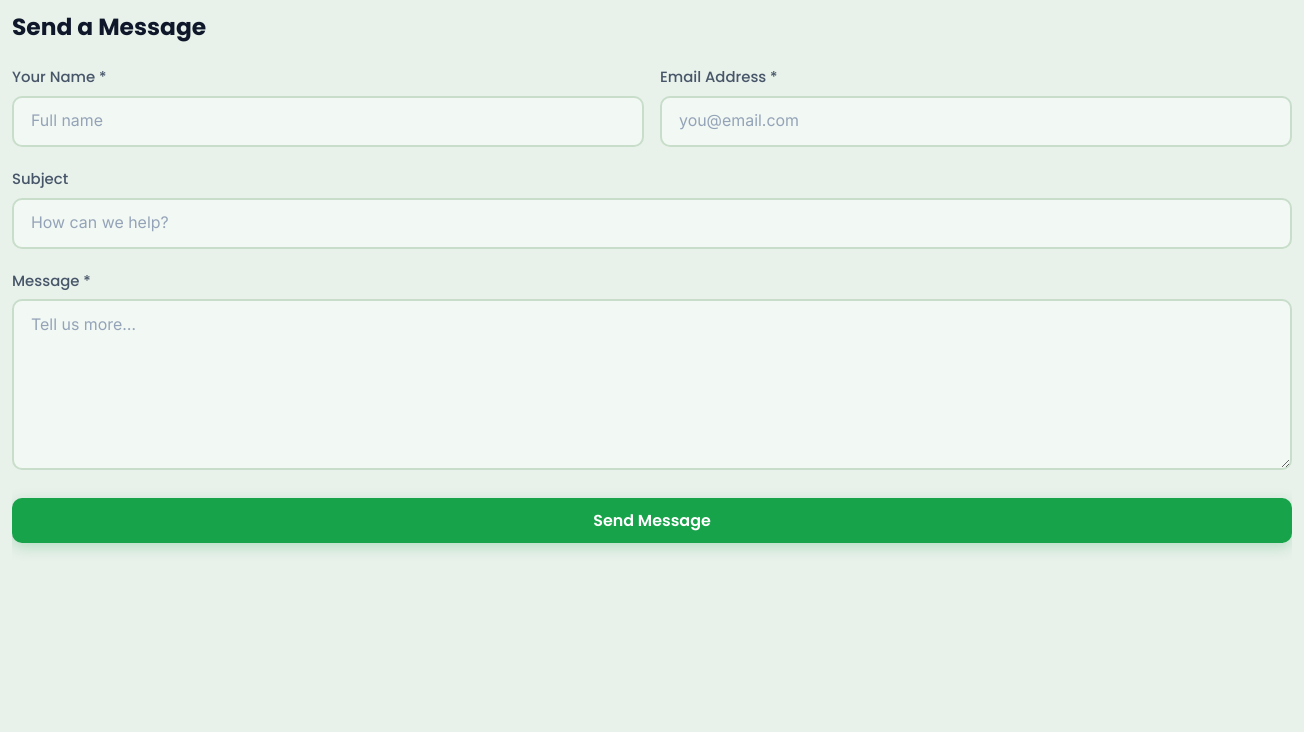
Test: ContactForm › does NOT claim success when the server cannot be reached
This screenshot has width=1304, height=732.
In the field labelled "Your Name *": (328, 121) [12,96,644,147], type "Nimali Perera"
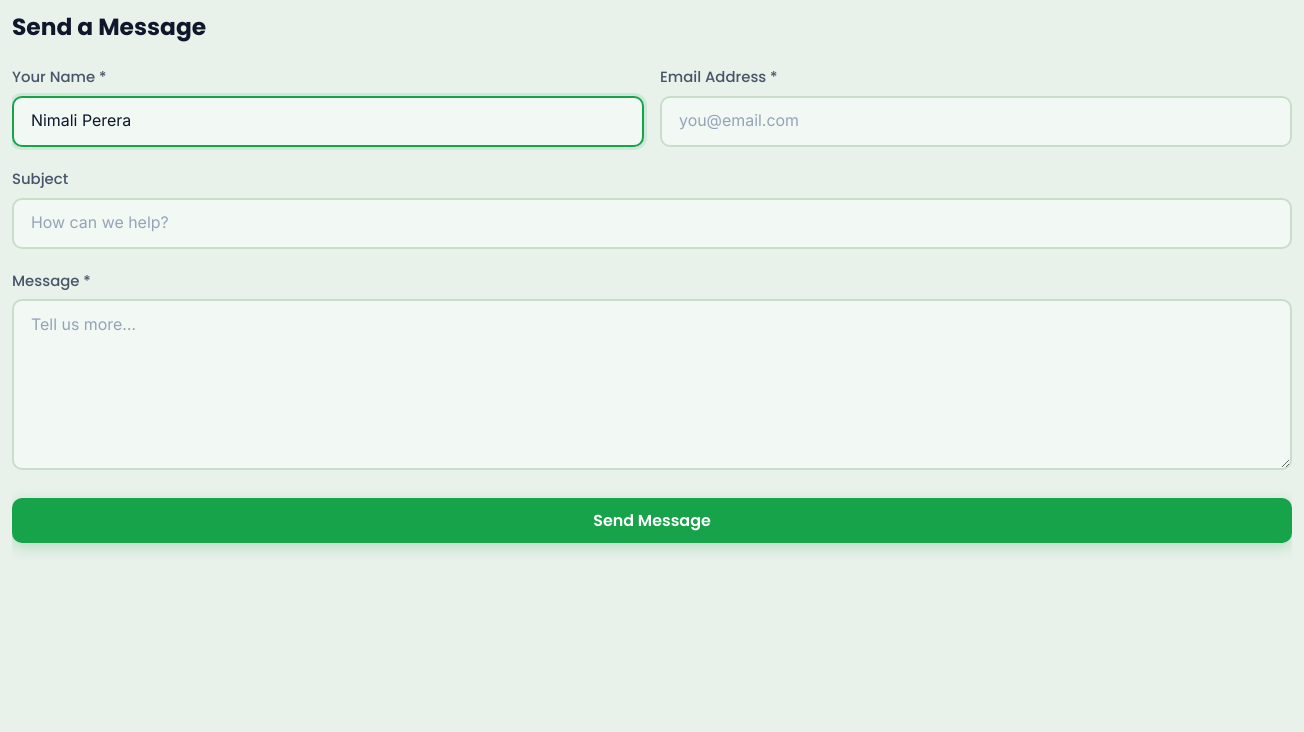
In the field labelled "Email Address *": (976, 121) [660,96,1292,147], type "nimali@example.com"
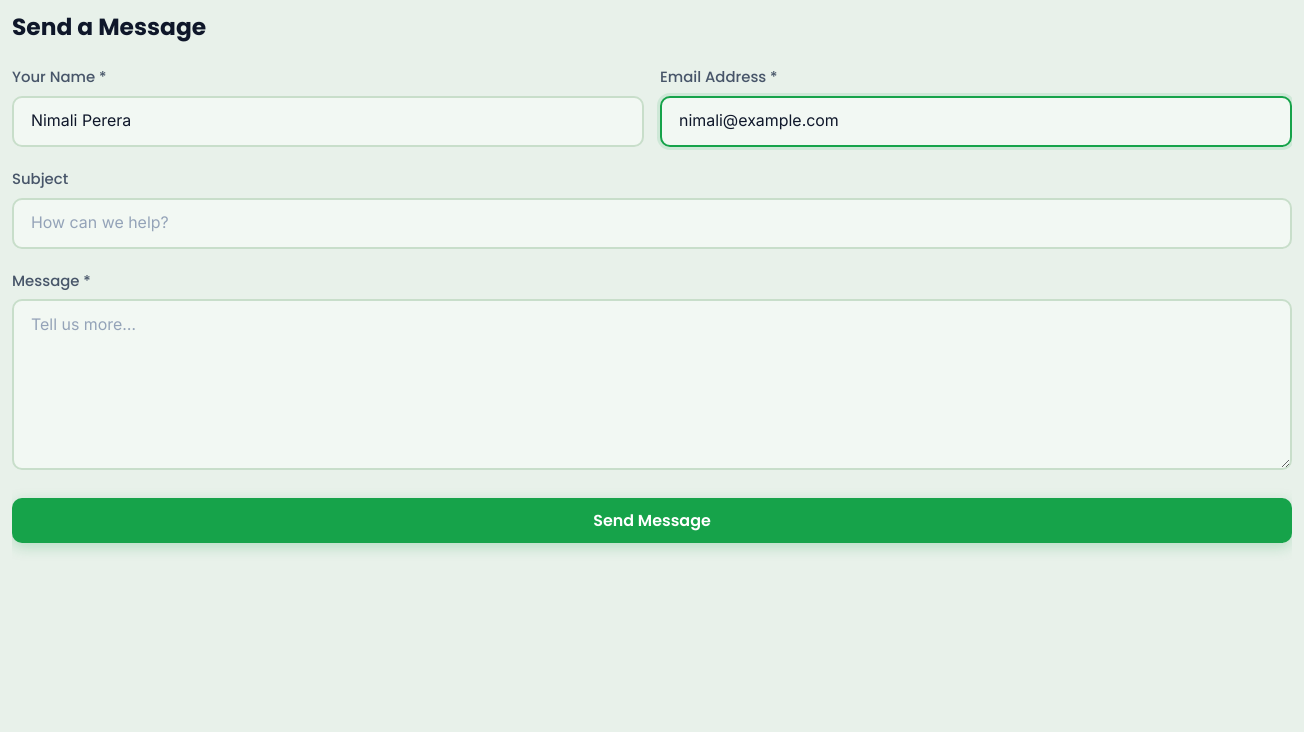
In the text box labelled "Message *": (652, 385) [12,299,1292,470], type "We would like to donate surplus bread every Friday."
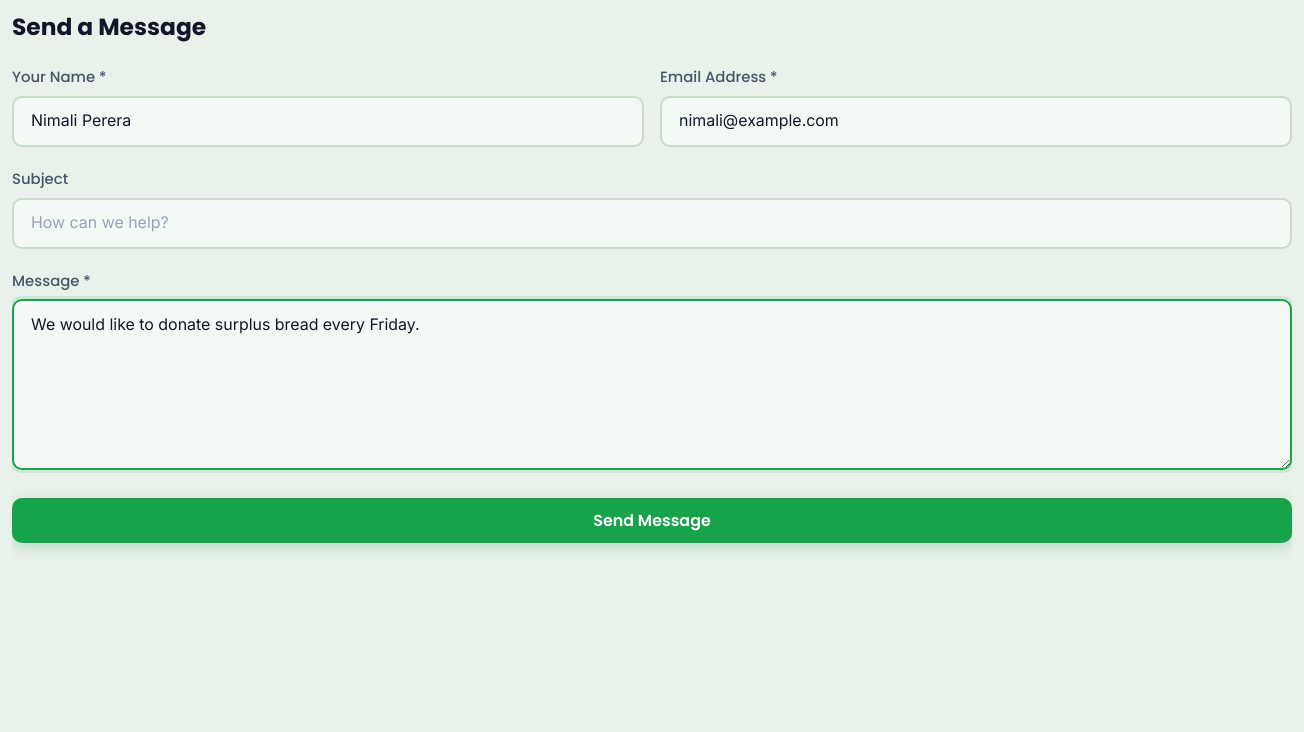
Click the button "Send Message": (652, 521) [12,498,1292,543]
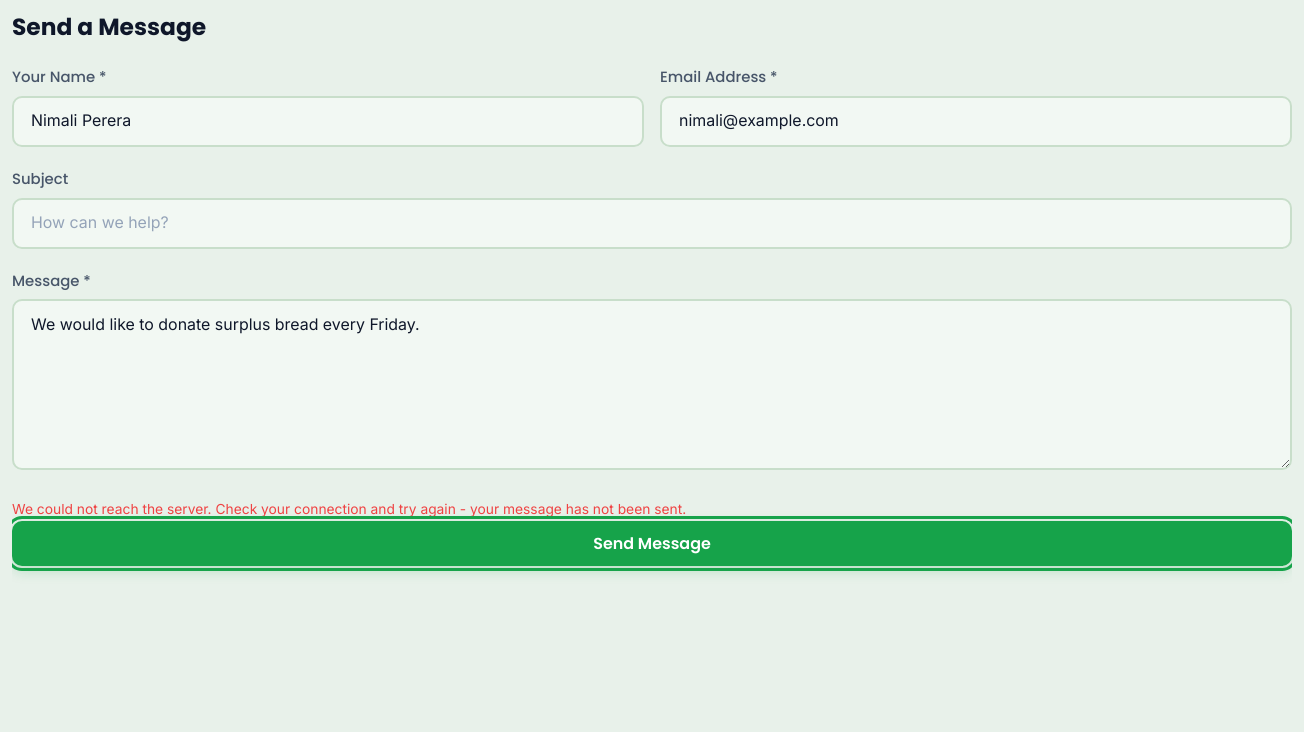
Now the message shows "has not been sent", box [12,501,686,517]
